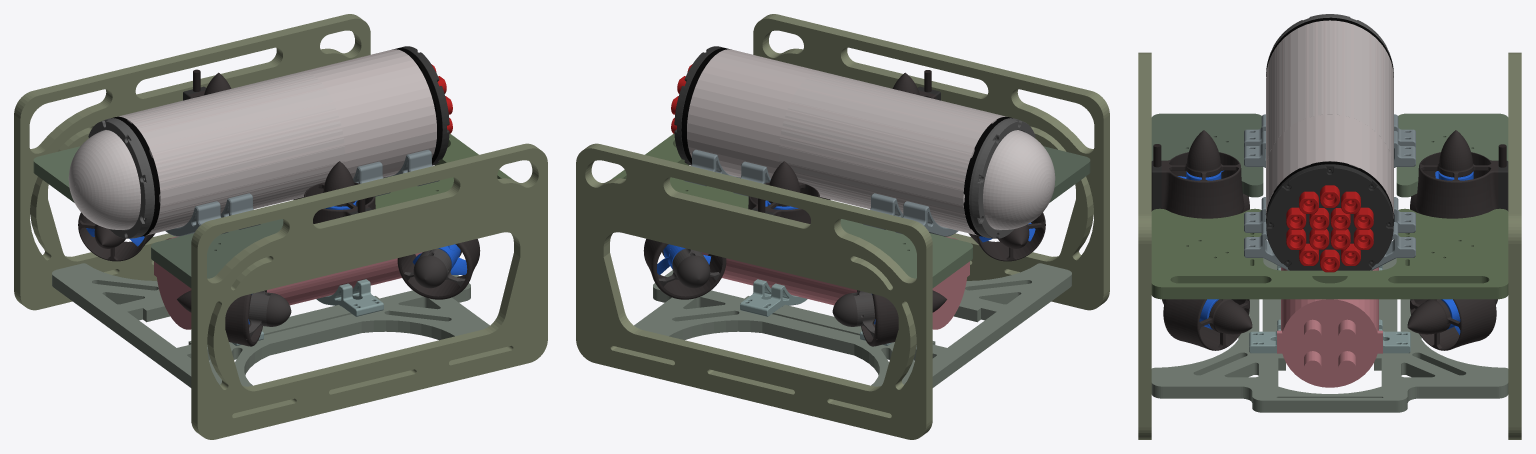
Rendered from clutch4.glb.
3 views of the same model, side by side, from view 1: azimuth 30°, elevation 25°; view 2: azimuth 150°, elevation 25°; view 3: azimuth 270°, elevation 25° (orthographic). The views are drawn at different scales.
Visible parts, largest first — view 1: body123834, body123834_3, body25254, body24571, body121723, body3239, body132127, body661, body3754, body676, body132762_11, body132762_7 (+14 smaller); view 2: body123834_3, body123834, body25254, body24571, body121723, body3239, body132127, body1117, body3754, body676, body132762, body132762_9 (+14 smaller); view 3: body676, body121723, body25254, body24571, body132127, body11600, body123834, body123834_3, body132762_3, body132762_5, body1117, body661 (+24 smaller).
Part boxes in pixels (left/top/right/bottom): body123834: left=191, top=143, right=547, bottom=439; body123834_3: left=14, top=14, right=370, bottom=310; body25254: left=119, top=49, right=436, bottom=233; body24571: left=118, top=71, right=344, bottom=235; body121723: left=52, top=263, right=489, bottom=387; body3239: left=68, top=130, right=140, bottom=229; body132127: left=154, top=236, right=422, bottom=329; body661: left=151, top=219, right=283, bottom=287; body3754: left=88, top=118, right=154, bottom=238; body676: left=375, top=133, right=512, bottom=208; body132762_11: left=397, top=239, right=480, bottom=299; body132762_7: left=78, top=212, right=155, bottom=261; body123834_3: left=576, top=143, right=932, bottom=439; body123834: left=753, top=14, right=1109, bottom=310; body25254: left=687, top=49, right=1004, bottom=233; body24571: left=779, top=71, right=1006, bottom=235; body121723: left=634, top=263, right=1071, bottom=387; body3239: left=983, top=130, right=1055, bottom=229; body132127: left=701, top=236, right=969, bottom=329; body1117: left=840, top=219, right=972, bottom=287; body3754: left=969, top=118, right=1035, bottom=238; body676: left=611, top=133, right=748, bottom=208; body132762: left=643, top=239, right=726, bottom=299; body132762_9: left=968, top=212, right=1045, bottom=261; body676: left=1151, top=208, right=1508, bottom=299; body121723: left=1151, top=258, right=1508, bottom=412; body25254: left=1266, top=20, right=1393, bottom=218; body24571: left=1266, top=20, right=1393, bottom=171; body132127: left=1277, top=267, right=1382, bottom=387; body11600: left=1266, top=164, right=1393, bottom=270; body123834: left=1138, top=52, right=1151, bottom=439; body123834_3: left=1508, top=52, right=1521, bottom=439; body132762_3: left=1161, top=130, right=1244, bottom=218; body132762_5: left=1415, top=130, right=1498, bottom=218; body1117: left=1396, top=113, right=1508, bottom=197; body661: left=1151, top=113, right=1263, bottom=197.
Bounding box in the file's own units: 413 × 259 × 345.
